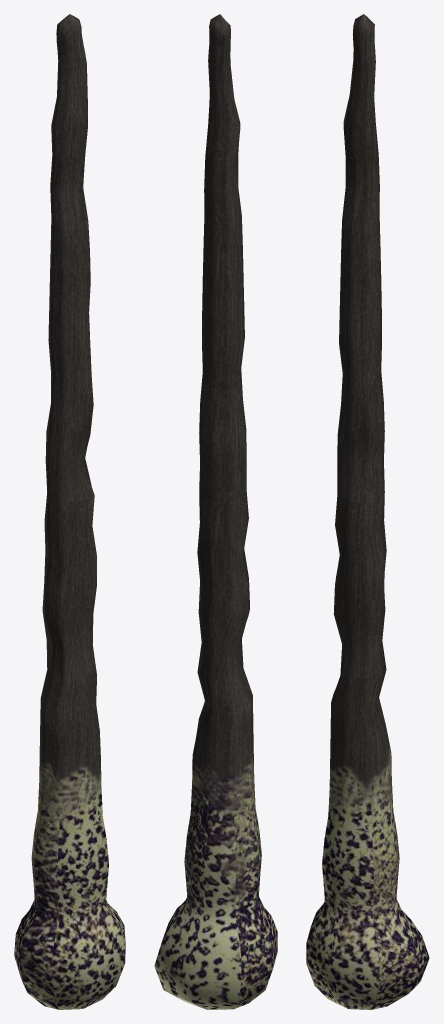
File: wand_fixed.fbx
3 renders of one model, left to right at view 1: azimuth 30°, elevation 25°; view 2: azimuth 150°, elevation 25°; view 3: azimuth 330°, elevation 25°, orthographic.
Parts seen in each view (by area): view 1: Cube.004; view 2: Cube.004; view 3: Cube.004.
Part boxes in pixels (x1=…): Cube.004: x1=14, y1=14, x2=125, y2=1009; Cube.004: x1=154, y1=14, x2=277, y2=1009; Cube.004: x1=306, y1=14, x2=429, y2=1009.
Bounding box in the file's own units: 2.55 × 22.68 × 2.23.
